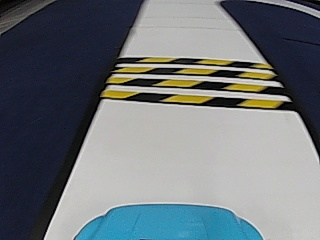bump: (122, 57, 257, 110)
